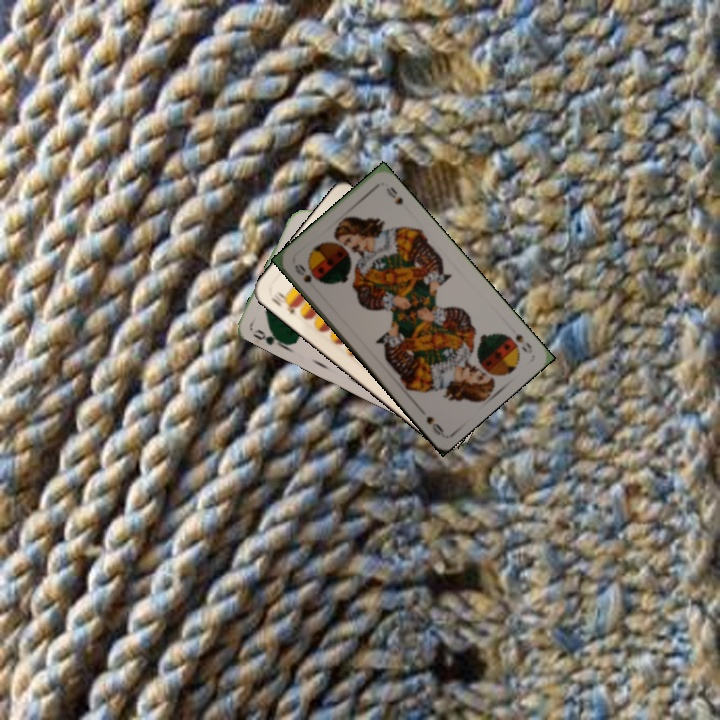E10: (266, 288, 302, 317)
GO: (249, 325, 288, 350)
SO: (504, 330, 534, 355), (290, 260, 314, 285)
